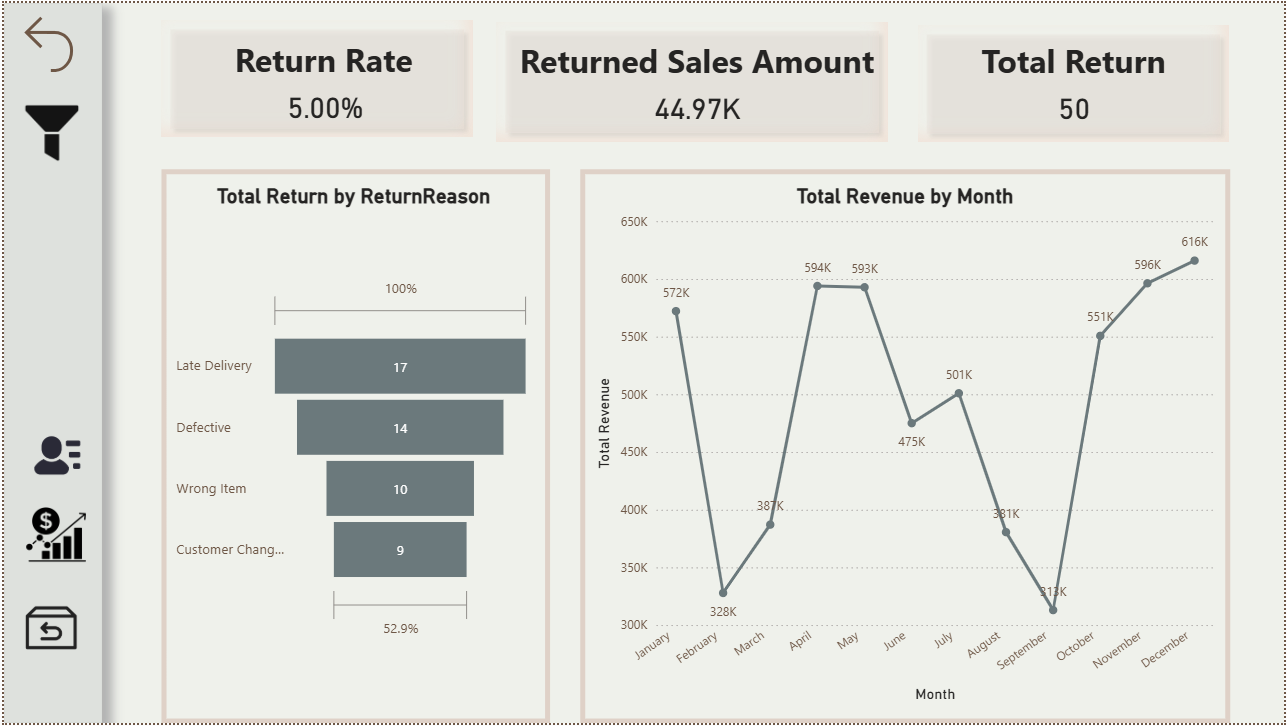

Layout of this report page (visuals, bound fields, positions):
{"tool":"powerbi","page":{"name":"Return Analysis","canvas":[1280,720],"ordinal":3},"visuals":[{"type":"shape","box":[0,0,98.6,720],"z":0,"group":"g1"},{"type":"shape","box":[157.1,17.4,311.4,117.1],"z":0},{"type":"actionButton","box":[10,5.7,81.4,70],"z":1000,"group":"g1"},{"type":"card","fields":{"Values":["Measures Table.Return Rate (%)"]},"box":[231.4,77.4,180,51.4],"z":1000},{"type":"textbox","box":[187.1,30.3,264.3,60],"z":2000},{"type":"image","box":[7.1,100,81.4,60],"z":2000,"group":"g1"},{"type":"shape","box":[492.9,18.6,391.4,120],"z":3000},{"type":"image","box":[17.1,417.1,68.6,71.4],"z":3000,"group":"g1"},{"type":"card","fields":{"Values":["Measures Table.Returned Sales Amount"]},"box":[603.7,78.3,180,51.4],"z":4000},{"type":"image","box":[21.4,498.6,61.4,65.7],"z":4000,"group":"g1"},{"type":"textbox","box":[504.3,31.4,378.6,58.6],"z":5000},{"type":"image","box":[11.4,591.4,71.4,67.1],"z":5000,"group":"g1"},{"type":"shape","box":[914.3,22.9,311.4,117.1],"z":6000},{"type":"card","fields":{"Values":["Measures Table.Total Return"]},"box":[980,78.6,180,51.4],"z":7000},{"type":"textbox","box":[937.1,31.4,264.3,60],"z":8000},{"type":"shape","box":[157.1,165.7,388.6,554.3],"z":9000},{"type":"funnel","fields":{"Category":["Returns_Fact.ReturnReason"],"Y":["Measures Table.Total Return"]},"box":[167.1,181.4,364.3,522.9],"z":10000},{"type":"shape","box":[575.7,165.7,650,554.3],"z":11000},{"type":"lineChart","fields":{"Category":["Date_Dim.Date.Variation.Date Hierarchy.Month"],"Y":["Measures Table.Total Revenue"]},"box":[587.1,181.4,627.1,522.9],"z":12000},{"type":"group","id":"g1","title":"menu","box":[0,0,99.6,719.9],"z":13000}]}

Visuals, with their boxes in screenshot pixels (x1, y1, x2, y2), scaled from the page's 1280x720 canvas onto the 1287x726 screenshot:
shape: region(0, 0, 99, 725)
shape: region(158, 18, 471, 136)
actionButton: region(10, 6, 92, 76)
card - Measures Table.Return Rate (%): region(233, 78, 414, 130)
textbox: region(188, 31, 454, 91)
image: region(7, 101, 89, 161)
shape: region(496, 19, 889, 140)
image: region(17, 421, 86, 493)
card - Measures Table.Returned Sales Amount: region(607, 79, 788, 131)
image: region(22, 503, 83, 569)
textbox: region(507, 32, 888, 91)
image: region(11, 596, 83, 664)
shape: region(919, 23, 1232, 141)
card - Measures Table.Total Return: region(985, 79, 1166, 131)
textbox: region(942, 32, 1208, 92)
shape: region(158, 167, 549, 725)
funnel - Returns_Fact.ReturnReason x Measures Table.Total Return: region(168, 183, 534, 710)
shape: region(579, 167, 1232, 725)
lineChart - Date_Dim.Date.Variation.Date Hierarchy.Month x Measures Table.Total Revenue: region(590, 183, 1221, 710)
"menu" group: region(0, 0, 100, 725)
